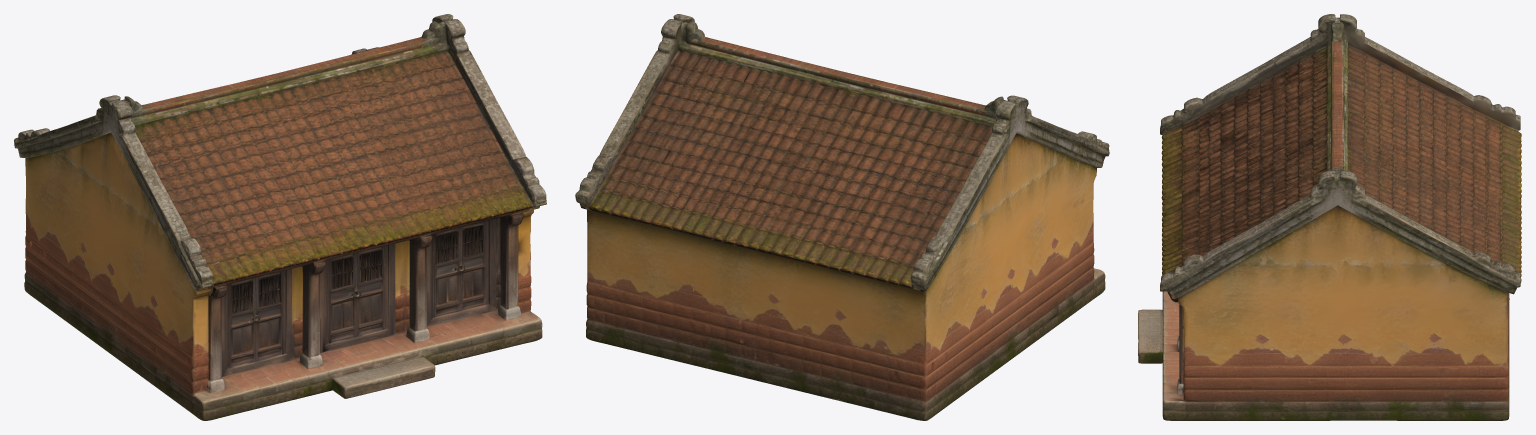
The model's file is VillageHouse.fbx.
3 views of the same model, side by side, from view 1: azimuth 30°, elevation 25°; view 2: azimuth 150°, elevation 25°; view 3: azimuth 270°, elevation 25° (orthographic). The views are drawn at different scales.
Parts seen in each view (by area): view 1: Mesh_0; view 2: Mesh_0; view 3: Mesh_0.
Part boxes in pixels (box(x1,y1,x2,y2)): Mesh_0: box(14, 14, 546, 420); Mesh_0: box(575, 14, 1109, 420); Mesh_0: box(1138, 14, 1521, 420).
Bounding box in the file's own units: 79.86 × 56 × 78.84.
1 material, 1 textured.
